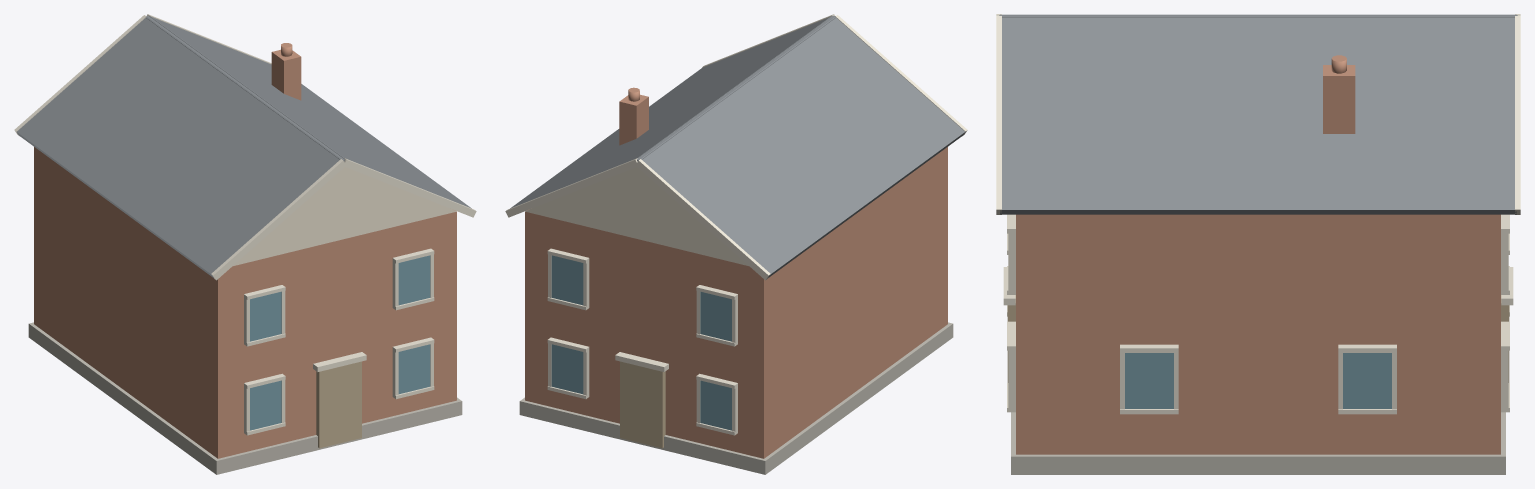
The model's file is rhine-brick-house_lod1.glb.
3 renders of one model, left to right at view 1: azimuth 30°, elevation 25°; view 2: azimuth 150°, elevation 25°; view 3: azimuth 270°, elevation 25°, orthographic. The views are drawn at different scales.
Visible parts, largest first — view 1: RF_Body, RF_Roof.001, RF_Gable, RF_Roof, RF_Foundation, RF_Door.001, RF_Vergeband.001, RF_Window.003, RF_Window.004, RF_Window.002, RF_Window.001, RF_Chimney (+4 smaller); view 2: RF_Body, RF_Roof.001, RF_Gable.001, RF_Roof, RF_Foundation, RF_Door, RF_Vergeband.002, RF_Window.007, RF_Window.008, RF_Window.006, RF_Window.005, RF_Chimney (+4 smaller); view 3: RF_Body, RF_Roof, RF_Foundation, RF_Window.009, RF_Window, RF_Chimney, RF_Ridge, RF_Vergeband, RF_Vergeband.003, RF_Roof.001, RF_WindowFrame.016, RF_WindowFrame.008.
Part boxes in pixels (left/top/right/bottom): RF_Body: left=34, top=147, right=456, bottom=458; RF_Roof.001: left=17, top=17, right=340, bottom=278; RF_Gable: left=233, top=167, right=456, bottom=265; RF_Roof: left=149, top=16, right=471, bottom=208; RF_Foundation: left=28, top=322, right=462, bottom=474; RF_Door.001: left=316, top=361, right=361, bottom=448; RF_Vergeband.001: left=211, top=159, right=346, bottom=280; RF_Window.003: left=398, top=344, right=430, bottom=394; RF_Window.004: left=398, top=255, right=430, bottom=305; RF_Window.002: left=250, top=291, right=281, bottom=341; RF_Window.001: left=250, top=380, right=281, bottom=430; RF_Chimney: left=271, top=49, right=301, bottom=100; RF_Body: left=525, top=147, right=947, bottom=458; RF_Roof.001: left=641, top=17, right=965, bottom=277; RF_Gable.001: left=525, top=167, right=748, bottom=265; RF_Roof: left=510, top=16, right=832, bottom=208; RF_Foundation: left=519, top=322, right=953, bottom=474; RF_Door: left=620, top=361, right=665, bottom=448; RF_Vergeband.002: left=636, top=159, right=770, bottom=280; RF_Window.007: left=551, top=344, right=583, bottom=394; RF_Window.008: left=551, top=255, right=583, bottom=305; RF_Window.006: left=700, top=291, right=731, bottom=341; RF_Window.005: left=700, top=380, right=731, bottom=430; RF_Chimney: left=619, top=94, right=648, bottom=145; RF_Body: left=1016, top=214, right=1500, bottom=454; RF_Roof: left=1000, top=16, right=1516, bottom=214; RF_Foundation: left=1011, top=412, right=1505, bottom=474; RF_Window.009: left=1125, top=353, right=1173, bottom=408; RF_Window: left=1343, top=353, right=1391, bottom=408; RF_Chimney: left=1323, top=65, right=1355, bottom=133; RF_Ridge: left=999, top=15, right=1517, bottom=17; RF_Vergeband: left=1515, top=16, right=1520, bottom=214; RF_Vergeband.003: left=996, top=16, right=1001, bottom=214; RF_Roof.001: left=1000, top=14, right=1516, bottom=15; RF_WindowFrame.016: left=1501, top=227, right=1508, bottom=294; RF_WindowFrame.008: left=1008, top=227, right=1015, bottom=294.
Bounding box in the file's own units: 9.93 × 10.47 × 12.98.
